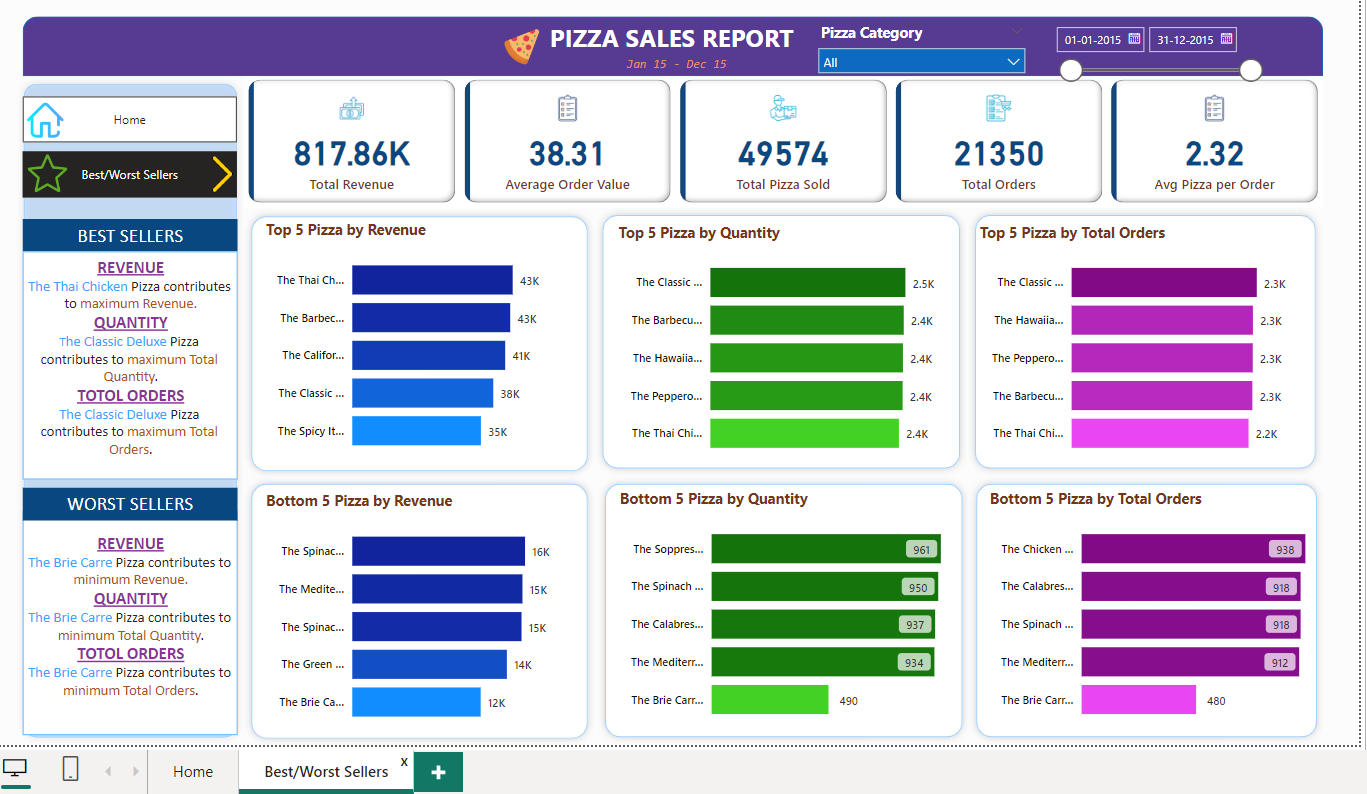

Layout of this report page (visuals, bound fields, positions):
{"tool":"powerbi","page":{"name":"Best/Worst Sellers","canvas":[1500,820],"ordinal":1},"visuals":[{"type":"cardVisual","fields":{"Data":["pizza_sales.Total Revenue","pizza_sales.Average Order Value","pizza_sales.Total Pizza Sold","pizza_sales.Total Orders","pizza_sales.Avg Pizza per Order"]},"box":[274.7,83.8,1185.4,145.6],"z":0},{"type":"shape","box":[31.4,18.6,1428.6,65.7],"z":1000},{"type":"textbox","box":[605.7,19.2,289.8,48.1],"z":2000},{"type":"textbox","box":[681.3,56.3,137.4,27.5],"z":3000},{"type":"image","box":[543.9,27.5,71.4,49.4],"z":4000},{"type":"shape","box":[24.3,85.7,250,734.3],"z":5000},{"type":"shape","box":[274.3,231.4,385.7,295.7],"z":6000},{"type":"textbox","box":[31.4,277.1,235.7,250],"z":7000},{"type":"textbox","box":[31.4,562.9,235.7,245.7],"z":8000},{"type":"slicer","fields":{"Values":["pizza_sales.pizza_category"]},"box":[895.5,20.6,247.2,64.6],"z":9000},{"type":"slicer","fields":{"Values":["pizza_sales.order_date"]},"box":[1155.7,20,247.1,75.7],"z":10000},{"type":"shape","box":[660,230,408.6,294.3],"z":11000},{"type":"shape","box":[1070,230,390,294.3],"z":12000},{"type":"shape","box":[274.3,524.3,385.7,295.7],"z":13000},{"type":"shape","box":[662.9,524.3,408.6,294.3],"z":14000},{"type":"shape","box":[1071.4,524.3,390,294.3],"z":15000},{"type":"barChart","title":"Top 5 Pizza by Revenue","fields":{"Category":["pizza_sales.pizza_name"],"Y":["pizza_sales.Total Revenue"]},"box":[294.3,241.4,348.6,271.4],"z":16000},{"type":"barChart","title":"Bottom 5 Pizza by Revenue","fields":{"Category":["pizza_sales.pizza_name"],"Y":["pizza_sales.Total Revenue"]},"box":[294.3,540,348.6,271.4],"z":17000},{"type":"barChart","title":"Top 5 Pizza by Quantity","fields":{"Category":["pizza_sales.pizza_name"],"Y":["pizza_sales.Total Pizza Sold"]},"box":[681.4,244.3,372.9,271.4],"z":18000},{"type":"barChart","title":"Bottom 5 Pizza by Quantity","fields":{"Category":["pizza_sales.pizza_name"],"Y":["pizza_sales.Total Pizza Sold"]},"box":[682.9,537.1,372.9,271.4],"z":19000},{"type":"barChart","title":"Top 5 Pizza by Total Orders","fields":{"Category":["pizza_sales.pizza_name"],"Y":["pizza_sales.Total Orders"]},"box":[1078.6,244.3,372.9,271.4],"z":20000},{"type":"barChart","title":"Bottom 5 Pizza by Total Orders","fields":{"Category":["pizza_sales.pizza_name"],"Y":["pizza_sales.Total Orders"]},"box":[1088.6,537.1,372.9,271.4],"z":21000},{"type":"textbox","box":[30.9,241.8,236.4,35.5],"z":22000},{"type":"textbox","box":[31.4,537.1,235.7,35.7],"z":23000},{"type":"pageNavigator","box":[31.4,167.1,235.7,50],"z":24000},{"type":"pageNavigator","box":[31.4,107.1,235.7,50],"z":25000},{"type":"image","box":[214.3,167.1,72.9,50],"z":26000},{"type":"image","box":[31.4,104.3,50,57.1],"z":27000},{"type":"image","box":[31.4,164.3,54.3,52.9],"z":28000}]}

Visuals, with their boxes on the page's 1500x820 design canvas (x1, y1, x2, y2). These are canvas units, not pixel positions in the 1367x794 screenshot, which may show the page scaled, cropped or inside an application window:
cardVisual - pizza_sales.Total Revenue x pizza_sales.Average Order Value: bbox=(275, 84, 1460, 229)
shape: bbox=(31, 19, 1460, 84)
textbox: bbox=(606, 19, 896, 67)
textbox: bbox=(681, 56, 819, 84)
image: bbox=(544, 28, 615, 77)
shape: bbox=(24, 86, 274, 820)
shape: bbox=(274, 231, 660, 527)
textbox: bbox=(31, 277, 267, 527)
textbox: bbox=(31, 563, 267, 809)
slicer - pizza_sales.pizza_category: bbox=(896, 21, 1143, 85)
slicer - pizza_sales.order_date: bbox=(1156, 20, 1403, 96)
shape: bbox=(660, 230, 1069, 524)
shape: bbox=(1070, 230, 1460, 524)
shape: bbox=(274, 524, 660, 820)
shape: bbox=(663, 524, 1072, 819)
shape: bbox=(1071, 524, 1461, 819)
"Top 5 Pizza by Revenue" barChart: bbox=(294, 241, 643, 513)
"Bottom 5 Pizza by Revenue" barChart: bbox=(294, 540, 643, 811)
"Top 5 Pizza by Quantity" barChart: bbox=(681, 244, 1054, 516)
"Bottom 5 Pizza by Quantity" barChart: bbox=(683, 537, 1056, 808)
"Top 5 Pizza by Total Orders" barChart: bbox=(1079, 244, 1452, 516)
"Bottom 5 Pizza by Total Orders" barChart: bbox=(1089, 537, 1462, 808)
textbox: bbox=(31, 242, 267, 277)
textbox: bbox=(31, 537, 267, 573)
pageNavigator: bbox=(31, 167, 267, 217)
pageNavigator: bbox=(31, 107, 267, 157)
image: bbox=(214, 167, 287, 217)
image: bbox=(31, 104, 81, 161)
image: bbox=(31, 164, 86, 217)
